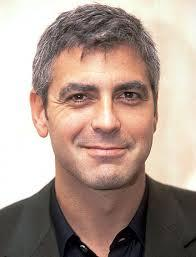normalMouth: (80, 137, 135, 163)
